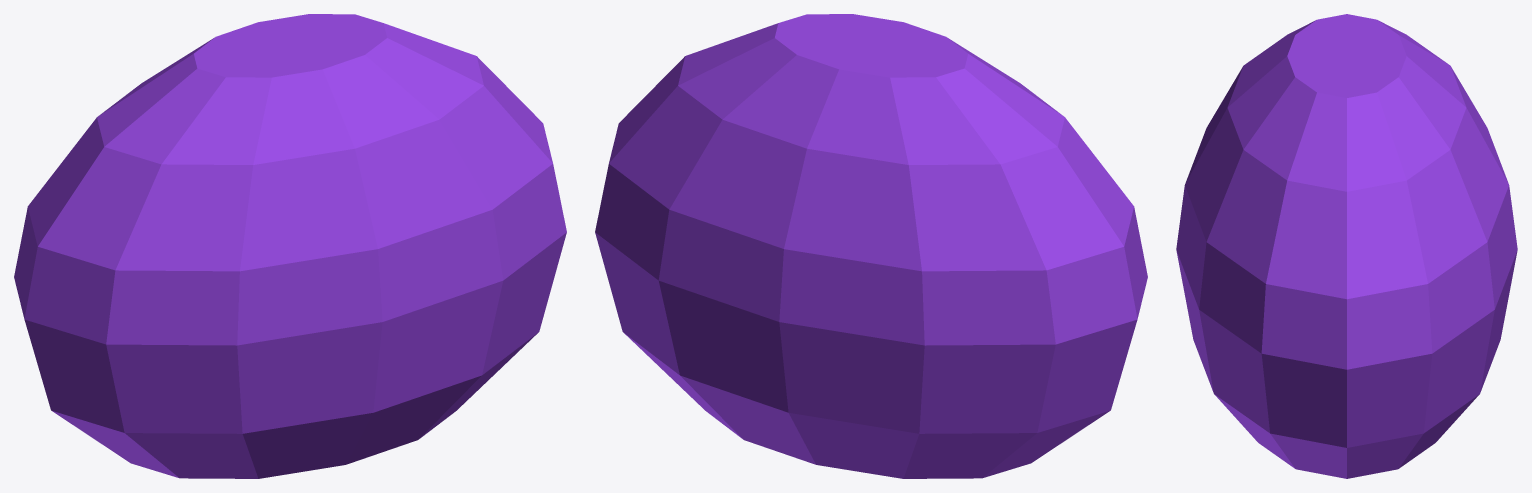
Rendered from SM_Amethyst_Normal.fbx.
3 views of the same model, side by side, from view 1: azimuth 30°, elevation 25°; view 2: azimuth 150°, elevation 25°; view 3: azimuth 270°, elevation 25° (orthographic). The views are drawn at different scales.
Parts seen in each view (by area): view 1: SM_Amethyst_Normal; view 2: SM_Amethyst_Normal; view 3: SM_Amethyst_Normal.
Part boxes in pixels (x1,y1,x2,y2): SM_Amethyst_Normal: (14,14,566,478); SM_Amethyst_Normal: (595,14,1147,478); SM_Amethyst_Normal: (1176,14,1517,478).
Size of the model in its own units: 20 by 12 by 15.
